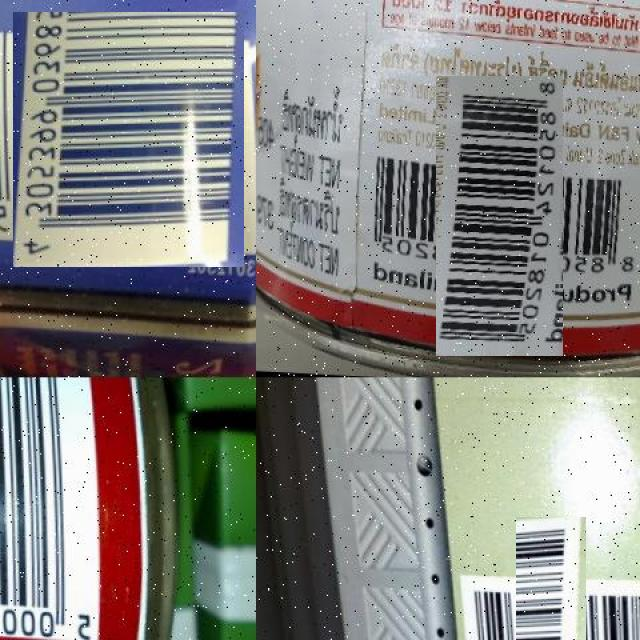Barcode: (6, 18, 250, 261), (398, 114, 602, 318), (0, 377, 102, 639), (489, 543, 613, 640)
